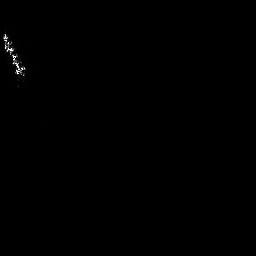ship: (2, 32, 27, 88)
